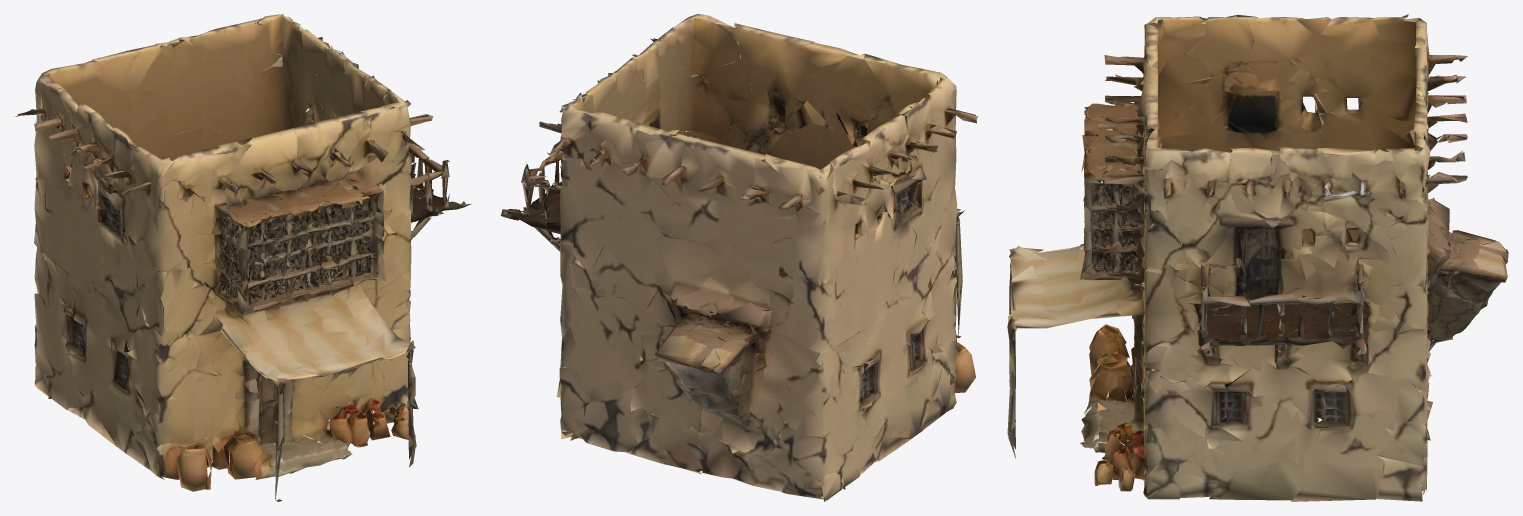
The model's file is Desert_Dwelling_town.glb.
3 renders of one model, left to right at view 1: azimuth 30°, elevation 25°; view 2: azimuth 150°, elevation 25°; view 3: azimuth 270°, elevation 25°, orthographic. The views are drawn at different scales.
Parts seen in each view (by area): view 1: Desert_Dwelling; view 2: Desert_Dwelling; view 3: Desert_Dwelling.
Part boxes in pixels (bbox=[...]): Desert_Dwelling: bbox=[14, 14, 471, 501]; Desert_Dwelling: bbox=[500, 14, 978, 501]; Desert_Dwelling: bbox=[1007, 14, 1508, 501].
Bounding box in the file's own units: 1.7 × 1.42 × 1.81.
Materials: 1 (1 with a texture image).
